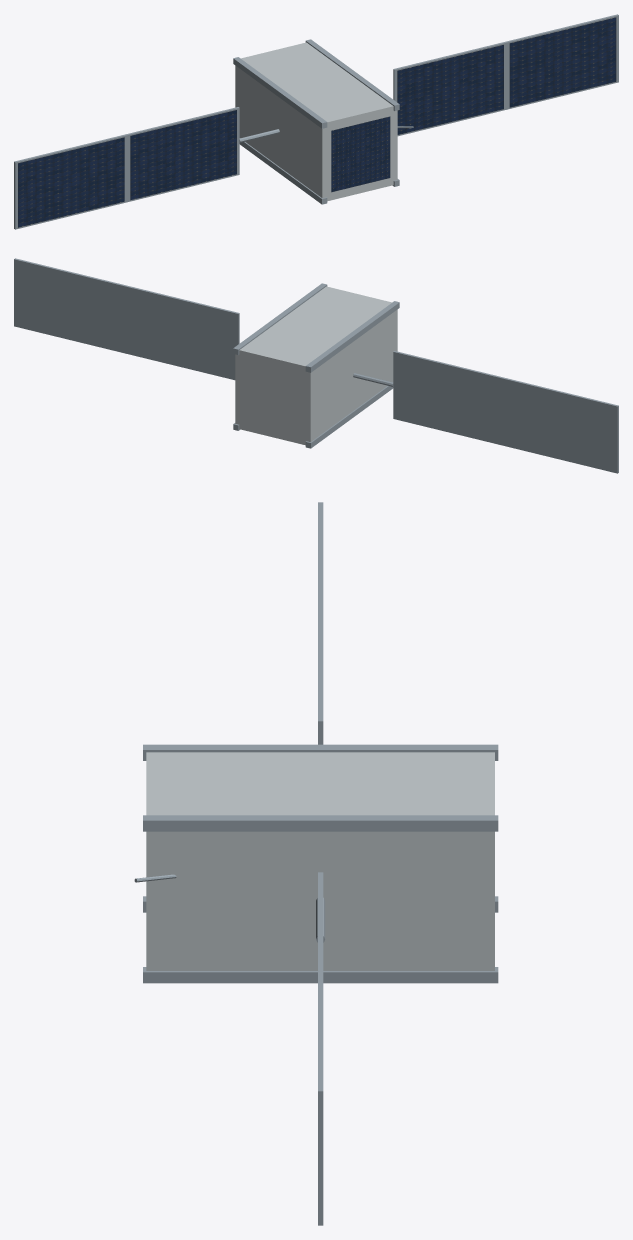
Rendered from ref-cubesat-16u-60079.glb.
3 views of the same model, one above another, from view 1: azimuth 30°, elevation 25°; view 2: azimuth 150°, elevation 25°; view 3: azimuth 270°, elevation 25° (orthographic). The views are drawn at different scales.
Parts seen in each view (by area): view 1: Photovoltaic laminates (×4), Spacecraft body, Array frame (×4), Body-mounted cells, Dispenser rail (×3); view 2: Array frame (×4), Spacecraft body, Dispenser rail (×3); view 3: Spacecraft body, Dispenser rail (×3), Array frame.
Part boxes in pixels (x1,y1,x2,y2): Photovoltaic laminates (×4): (18,17,616,227); Spacecraft body: (235,42,397,201); Array frame (×4): (14,14,618,229); Body-mounted cells: (331,116,390,192); Dispenser rail (×3): (233,39,399,204); Array frame (×4): (14,258,618,473); Spacecraft body: (235,286,397,445); Dispenser rail (×3): (233,283,399,448); Spacecraft body: (146,752,494,970); Dispenser rail (×3): (143,744,498,983); Array frame: (318,982,323,1225).
Size of the model in its own units: 1.6 by 0.206 by 0.4175.
Materials: 3 (1 with a texture image).
